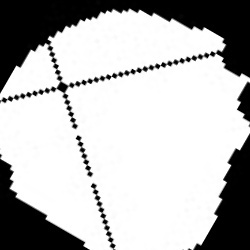spot: (1, 8, 249, 249)
